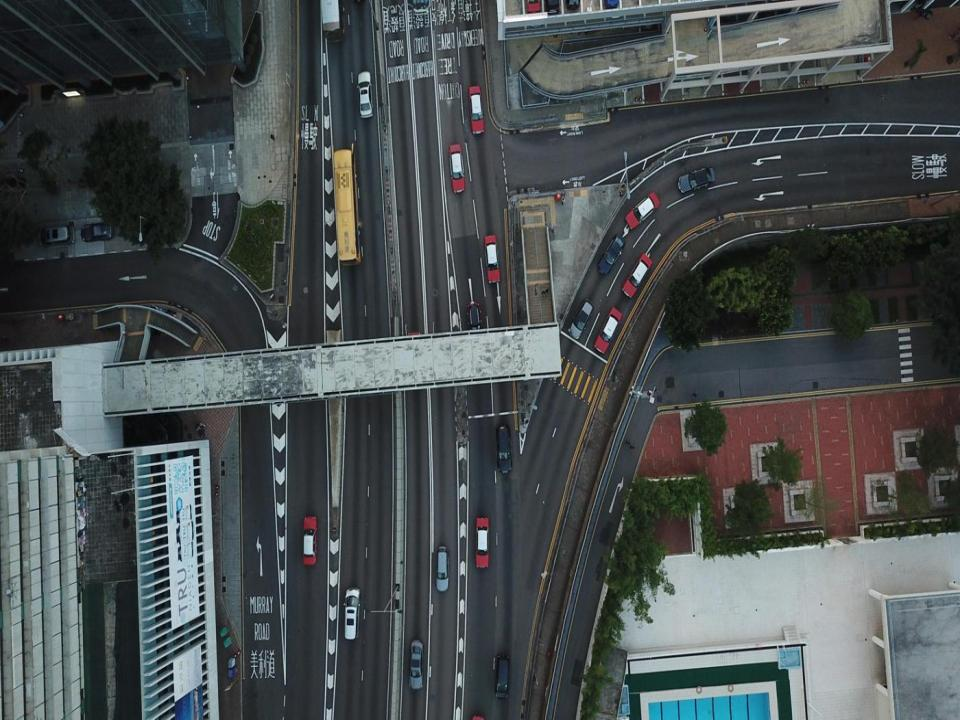bus: (332, 149, 361, 266)
car: (621, 253, 653, 297), (594, 307, 622, 354), (624, 192, 659, 229), (597, 233, 625, 275), (568, 298, 594, 338), (678, 166, 715, 194), (448, 143, 466, 192), (484, 234, 501, 283), (468, 85, 485, 134), (344, 588, 360, 640), (357, 70, 374, 117), (496, 424, 512, 472), (40, 226, 74, 248), (434, 546, 450, 591), (467, 302, 483, 347), (303, 514, 317, 565), (80, 222, 115, 242), (409, 639, 423, 689), (475, 518, 489, 567), (495, 655, 508, 698), (407, 332, 422, 369), (528, 1, 543, 28), (545, 1, 561, 17), (526, 0, 541, 16), (609, 0, 622, 18), (564, 0, 581, 11)
